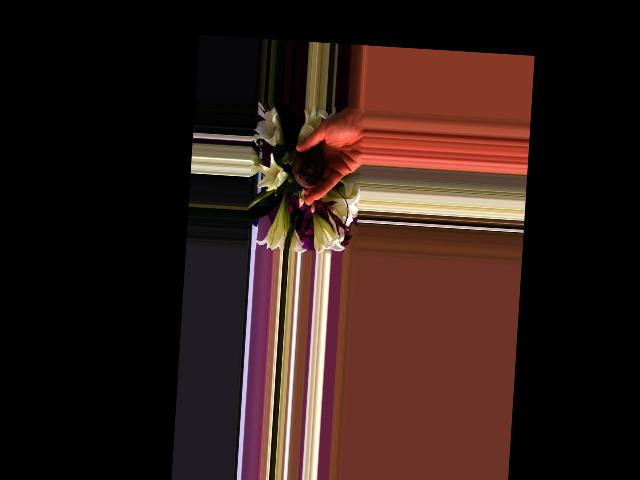beet: (291, 148, 326, 190)
